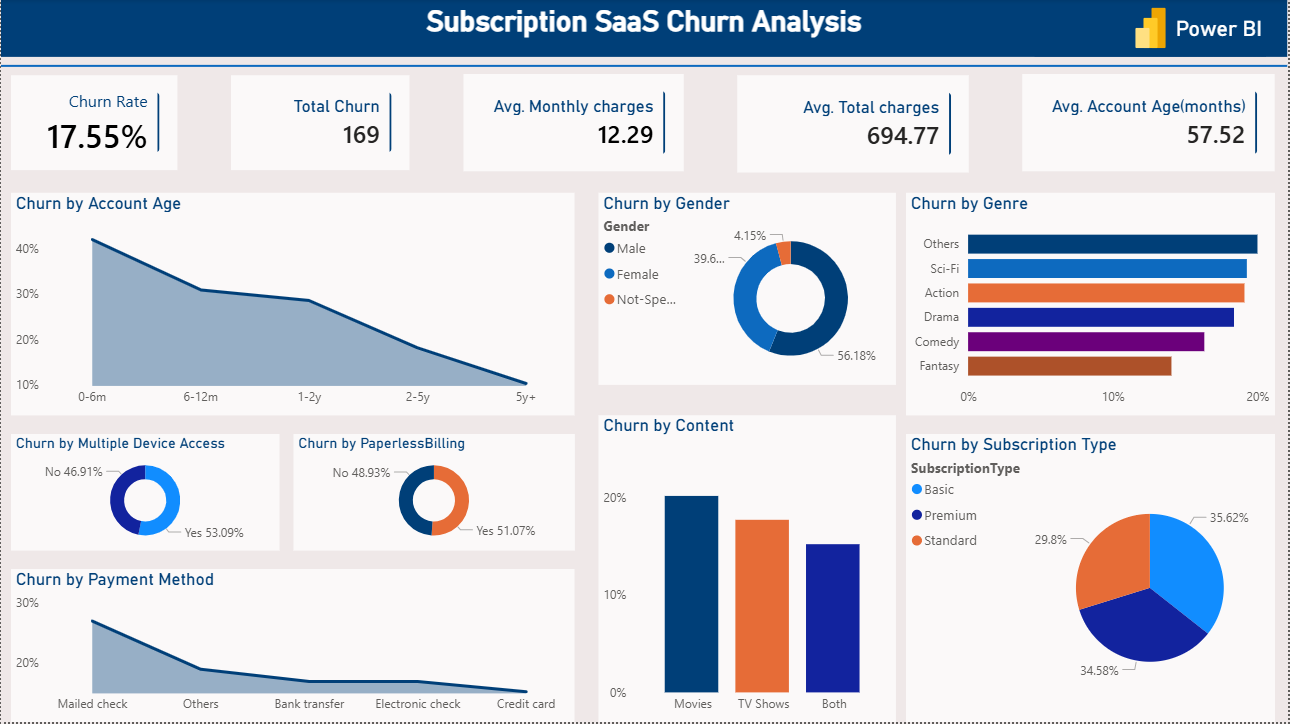

The dashboard page shown, as its layout file describes it:
{"tool":"powerbi","page":{"name":"Churn Dashboard","canvas":[1280,720],"ordinal":0},"visuals":[{"type":"textbox","box":[0,0,1280,57.2],"z":0},{"type":"actionButton","title":"Power BI","box":[1028.8,0,230.1,57.2],"z":1000},{"type":"cardVisual","fields":{"Data":["cleaned_churn_data.Avg monthly charges"]},"box":[460.3,74.6,218.9,97],"z":2000},{"type":"shape","box":[0,57.2,1280,18.7],"z":3000},{"type":"cardVisual","fields":{"Data":["cleaned_churn_data.Avg Total charges"]},"box":[732.7,75.9,230.1,97],"z":4000},{"type":"cardVisual","fields":{"Data":["cleaned_churn_data.Avg Account charges"]},"box":[1016.3,74.6,251.3,97],"z":5000},{"type":"donutChart","title":"Churn by Gender","fields":{"Category":["cleaned_churn_data.Gender"],"Y":["CountNonNull(cleaned_churn_data.CustomerID)"]},"box":[594.6,192.8,296.1,191.6],"z":6000},{"type":"cardVisual","fields":{"Data":["cleaned_churn_data.Churn Rate (%)"]},"box":[10,75.9,165.4,94.5],"z":7000},{"type":"clusteredBarChart","title":"Churn  by Genre ","fields":{"Category":["cleaned_churn_data.GenrePreference"],"Y":["cleaned_churn_data.Churn Rate (%)"]},"box":[900.6,192.8,367,221.4],"z":8000},{"type":"cardVisual","fields":{"Data":["CountNonNull(cleaned_churn_data.Churn)"]},"box":[228.9,75.9,177.9,94.5],"z":9000},{"type":"areaChart","title":"Churn by Account Age","fields":{"Category":["cleaned_churn_data.AccountAgeGroup"],"Y":["cleaned_churn_data.Churn Rate (%)"]},"box":[10,192.8,561,221.4],"z":10000},{"type":"pieChart","title":"Churn by Subscription Type","fields":{"Category":["cleaned_churn_data.SubscriptionType"],"Y":["CountNonNull(cleaned_churn_data.CustomerID)"]},"box":[900.6,432.9,367,287.4],"z":11000},{"type":"clusteredColumnChart","title":"Churn by Content","fields":{"Category":["cleaned_churn_data.ContentType"],"Y":["cleaned_churn_data.Churn Rate (%)"]},"box":[594.6,414.2,296.1,306],"z":12000},{"type":"donutChart","title":"Churn by PaperlessBilling","fields":{"Category":["cleaned_churn_data.PaperlessBilling"],"Y":["cleaned_churn_data.Churn Rate (%)"]},"box":[291.1,432.9,279.9,115.7],"z":13000},{"type":"donutChart","title":"Churn by Multiple Device Access","fields":{"Category":["cleaned_churn_data.MultiDeviceAccess"],"Y":["cleaned_churn_data.Churn Rate (%)"]},"box":[10,432.9,267.5,115.7],"z":14000},{"type":"stackedAreaChart","title":"Churn  by Payment Method","fields":{"Category":["cleaned_churn_data.PaymentMethod"],"Y":["cleaned_churn_data.Churn Rate (%)"]},"box":[10,567.2,561,153],"z":15000}]}

Visuals, with their boxes in screenshot pixels (x1, y1, x2, y2), scaled from the page's 1280x720 canvas onto the 1290x724 screenshot:
textbox: {"left": 0, "top": 0, "right": 1289, "bottom": 58}
"Power BI" actionButton: {"left": 1037, "top": 0, "right": 1269, "bottom": 58}
cardVisual - cleaned_churn_data.Avg monthly charges: {"left": 464, "top": 75, "right": 685, "bottom": 173}
shape: {"left": 0, "top": 58, "right": 1289, "bottom": 76}
cardVisual - cleaned_churn_data.Avg Total charges: {"left": 738, "top": 76, "right": 970, "bottom": 174}
cardVisual - cleaned_churn_data.Avg Account charges: {"left": 1024, "top": 75, "right": 1278, "bottom": 173}
"Churn by Gender" donutChart: {"left": 599, "top": 194, "right": 898, "bottom": 387}
cardVisual - cleaned_churn_data.Churn Rate (%): {"left": 10, "top": 76, "right": 177, "bottom": 171}
"Churn  by Genre " clusteredBarChart: {"left": 908, "top": 194, "right": 1278, "bottom": 417}
cardVisual - CountNonNull(cleaned_churn_data.Churn): {"left": 231, "top": 76, "right": 410, "bottom": 171}
"Churn by Account Age" areaChart: {"left": 10, "top": 194, "right": 575, "bottom": 417}
"Churn by Subscription Type" pieChart: {"left": 908, "top": 435, "right": 1278, "bottom": 723}
"Churn by Content" clusteredColumnChart: {"left": 599, "top": 417, "right": 898, "bottom": 723}
"Churn by PaperlessBilling" donutChart: {"left": 293, "top": 435, "right": 575, "bottom": 552}
"Churn by Multiple Device Access" donutChart: {"left": 10, "top": 435, "right": 280, "bottom": 552}
"Churn  by Payment Method" stackedAreaChart: {"left": 10, "top": 570, "right": 575, "bottom": 723}
